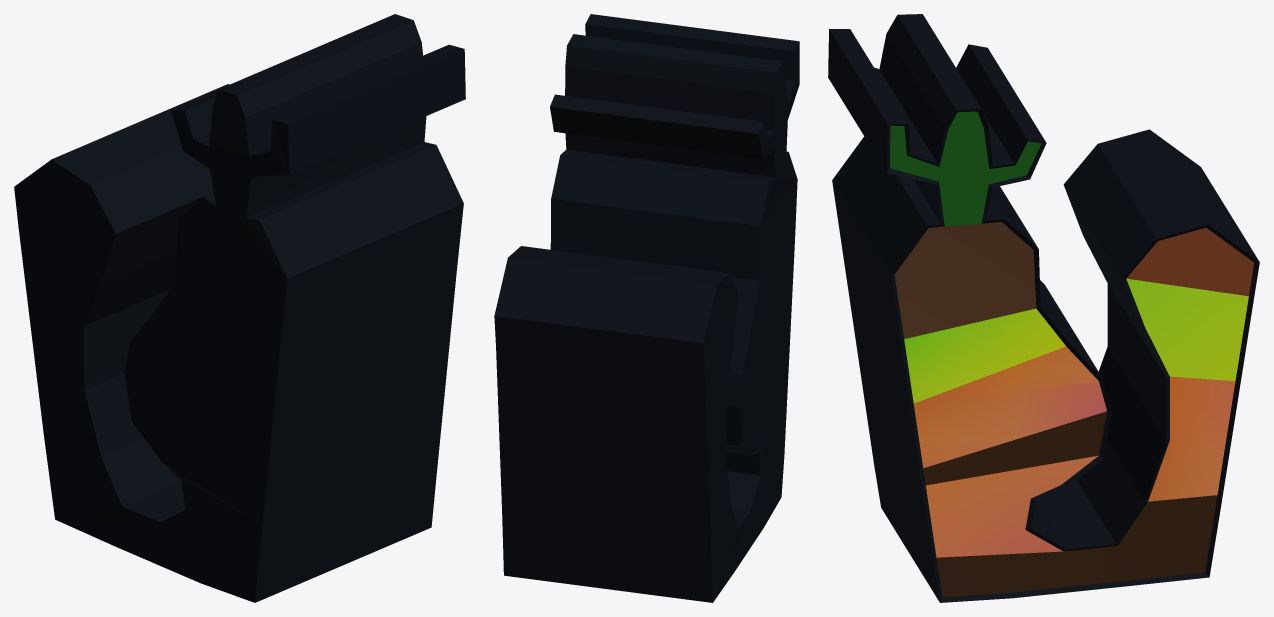
File: CANYON PIN.fbx
3 renders of one model, left to right at view 1: azimuth 30°, elevation 25°; view 2: azimuth 150°, elevation 25°; view 3: azimuth 270°, elevation 25°, orthographic. The views are drawn at different scales.
Parts seen in each view (by area): view 1: CANYON_PIN; view 2: CANYON_PIN; view 3: CANYON_PIN.
Part boxes in pixels (left/top/right/bottom): CANYON_PIN: left=14, top=14, right=465, bottom=602; CANYON_PIN: left=494, top=14, right=799, bottom=602; CANYON_PIN: left=828, top=14, right=1259, bottom=602.
Bounding box in the file's own units: 3.95 × 6.64 × 5.25.
